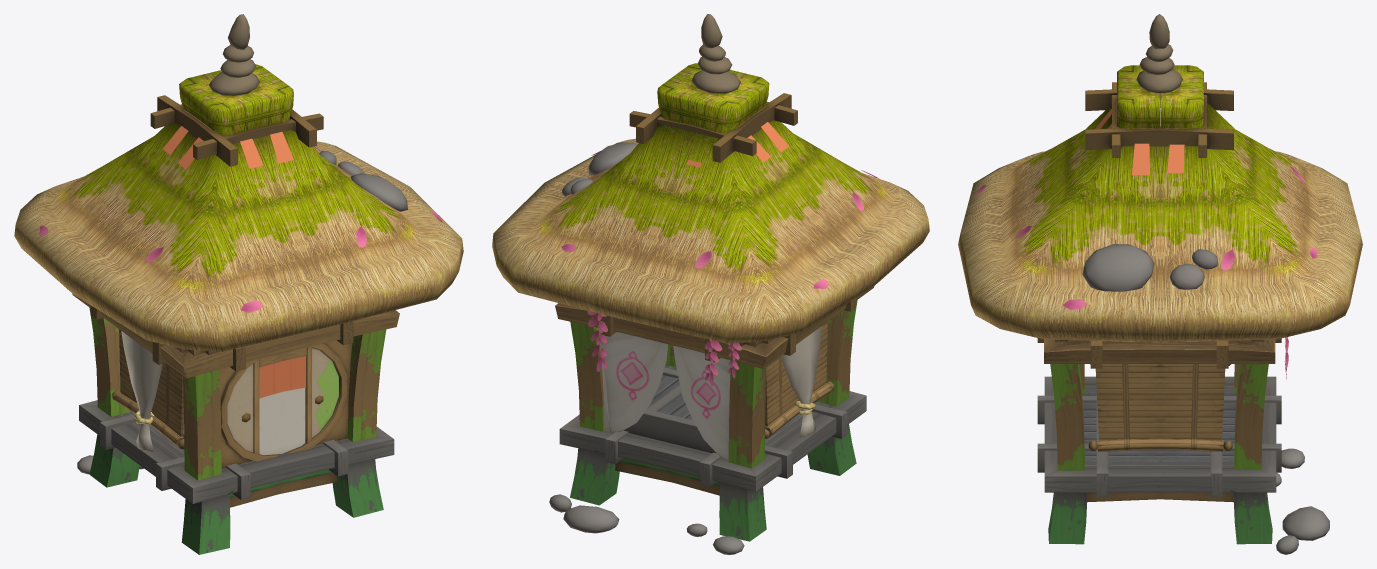
Rendered from HGS_WZ02.FBX.
The picture shows the model from 3 angles, left to right: view 1: azimuth 30°, elevation 25°; view 2: azimuth 150°, elevation 25°; view 3: azimuth 270°, elevation 25°; orthographic projection. The views are drawn at different scales.
Parts seen in each view (by area): view 1: HGS_WZ02; view 2: HGS_WZ02; view 3: HGS_WZ02.
Part boxes in pixels (x1=…): HGS_WZ02: x1=14, y1=14, x2=463, y2=554; HGS_WZ02: x1=492, y1=14, x2=929, y2=554; HGS_WZ02: x1=958, y1=14, x2=1362, y2=554.
Size of the model in its own units: 7.94 by 10.79 by 7.99.
